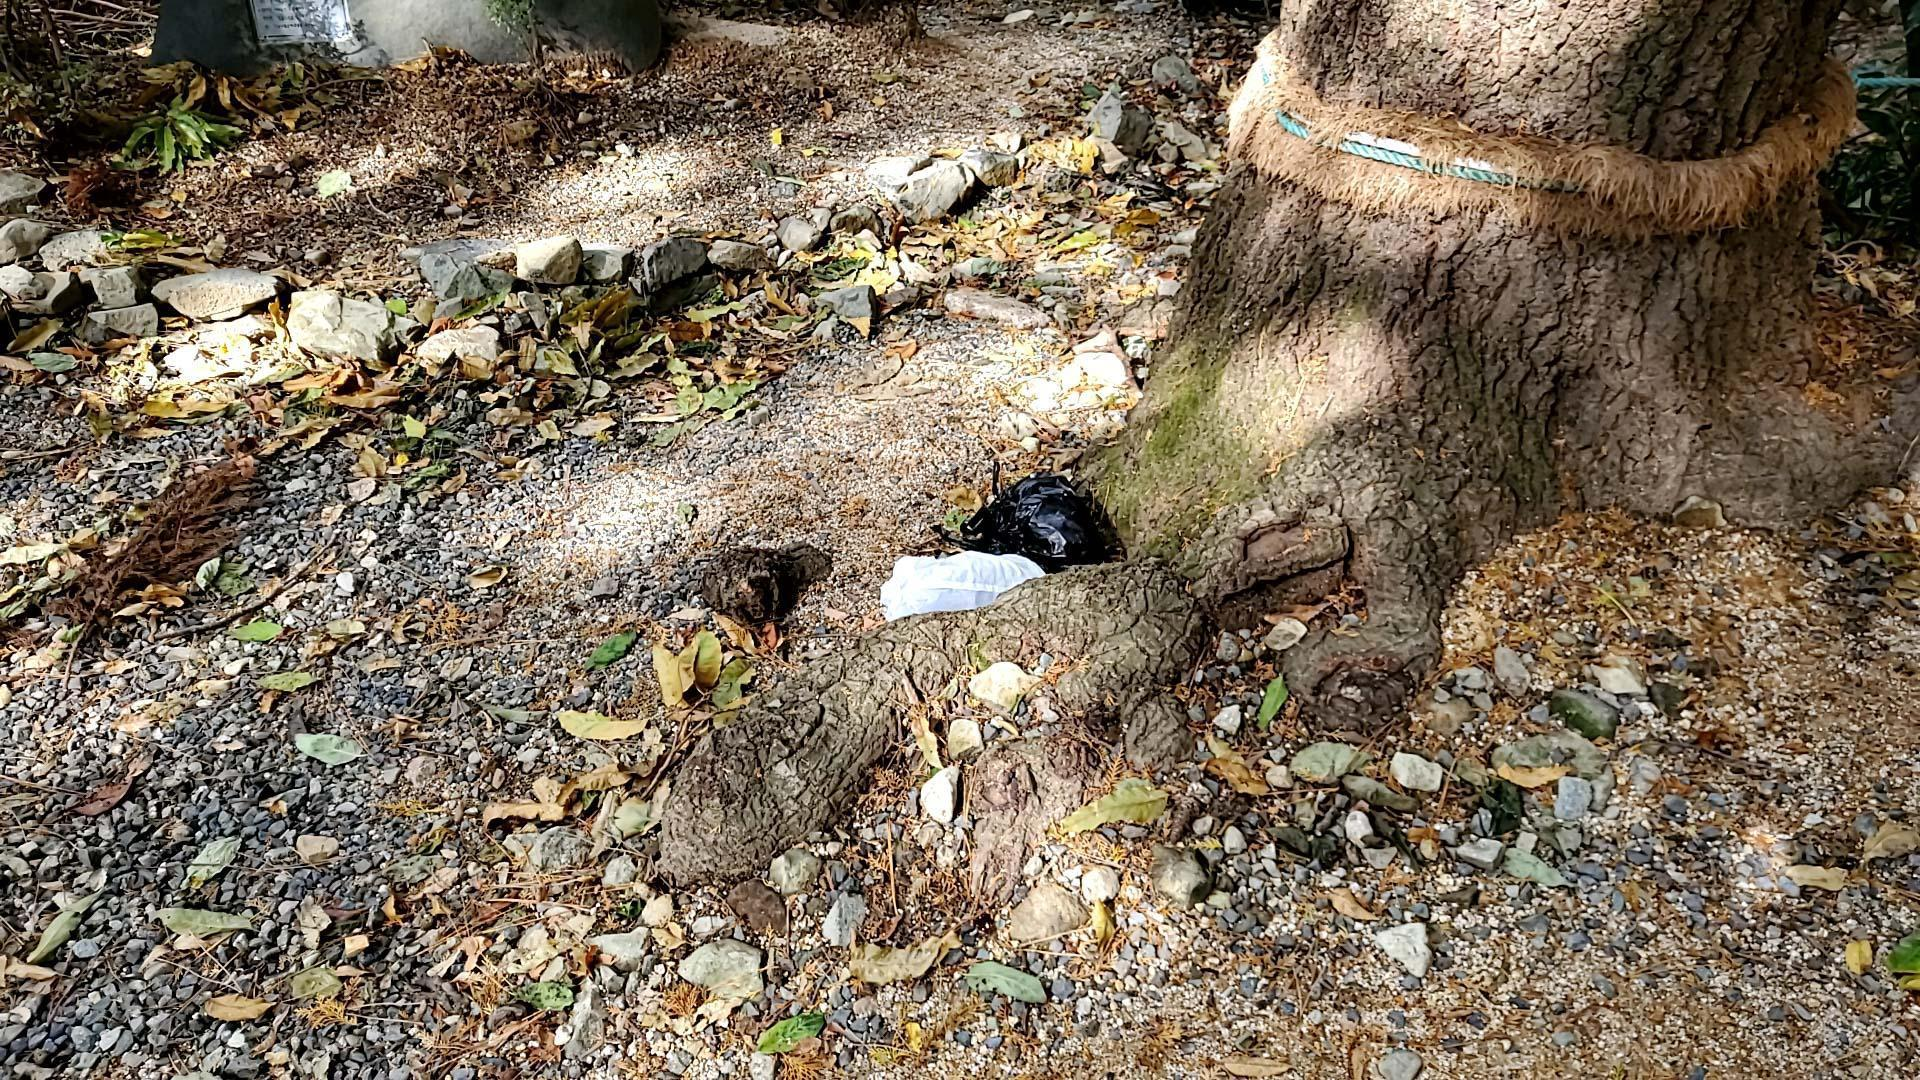black_bag: (953, 458, 1124, 578)
white_bag: (870, 547, 1051, 632)
